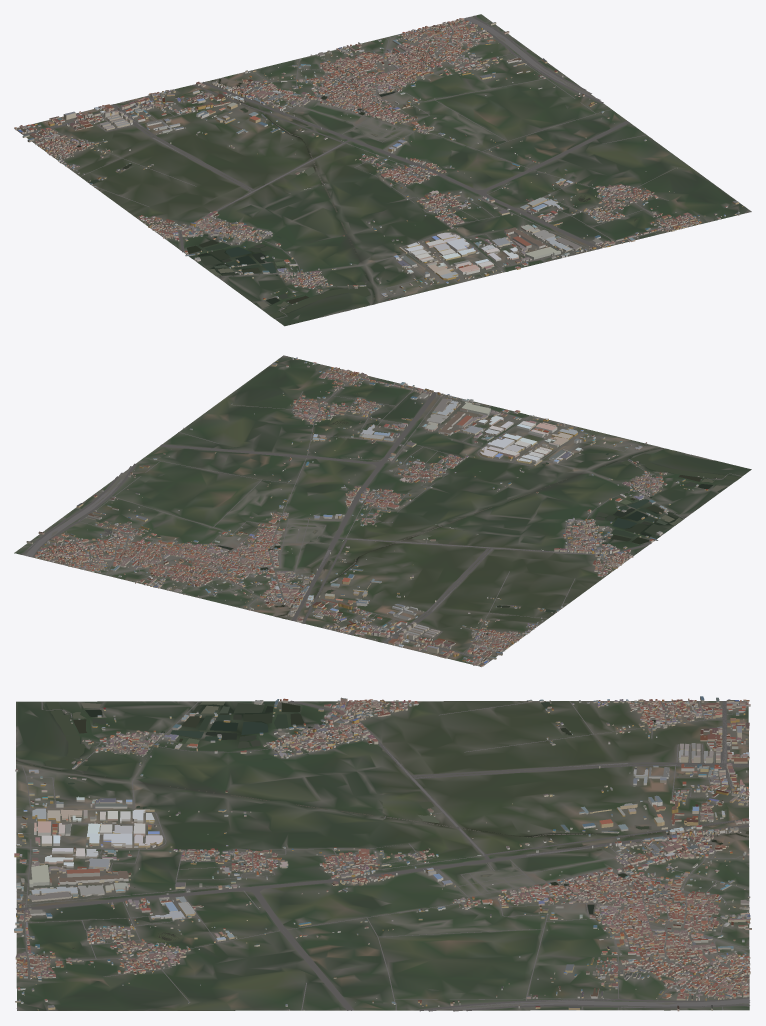
The picture shows the model from 3 angles, top to bottom: view 1: azimuth 30°, elevation 25°; view 2: azimuth 150°, elevation 25°; view 3: azimuth 270°, elevation 25°; orthographic projection. The views are drawn at different scales.
Parts seen in each view (by area): view 1: ground, buildings, roads, water; view 2: ground, buildings, roads, water; view 3: ground, buildings, roads, water.
Part boxes in pixels (x1,y1,x2,y2): ground: (14, 14, 751, 326); buildings: (14, 18, 743, 308); roads: (17, 15, 751, 319); water: (77, 79, 637, 317); ground: (14, 355, 751, 666); buildings: (26, 357, 716, 667); roads: (20, 355, 741, 665); water: (217, 393, 740, 642); ground: (16, 701, 749, 1010); buildings: (14, 696, 751, 1011); roads: (16, 700, 749, 1011); water: (28, 701, 748, 948).
Size of the model in its own units: 2832 by 32.5 by 2823.
